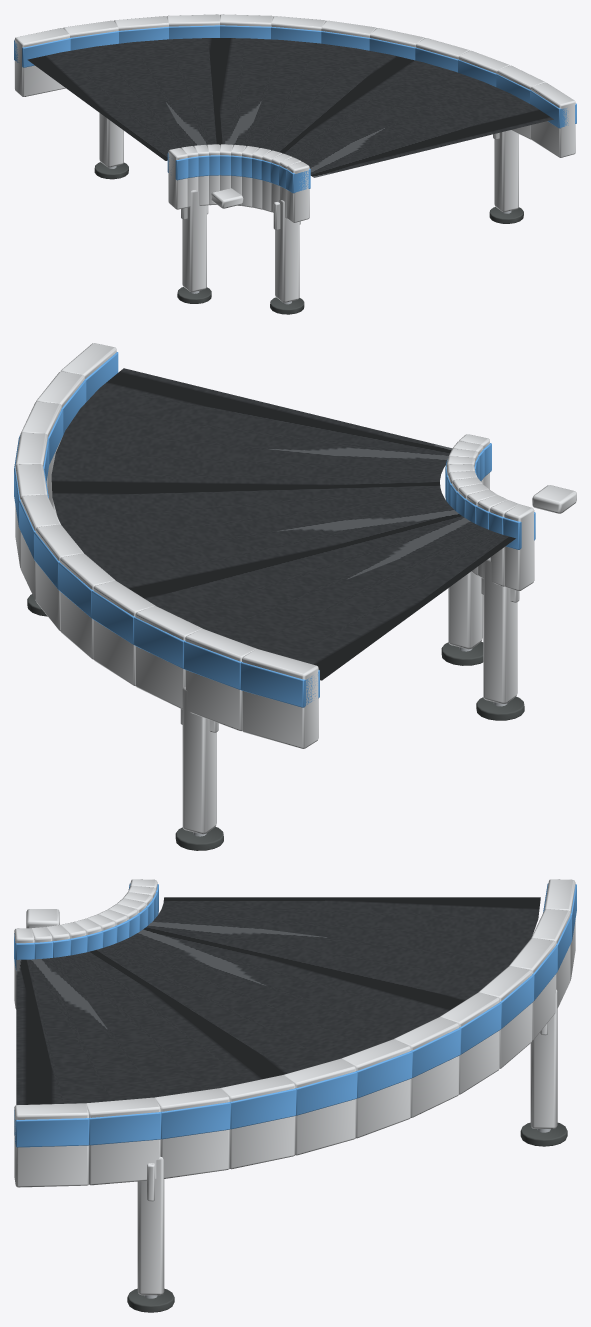
Rendered from cinta_curva_der_mk2.glb.
3 views of the same model, one above another, from view 1: azimuth 30°, elevation 25°; view 2: azimuth 150°, elevation 25°; view 3: azimuth 270°, elevation 25° (orthographic). The views are drawn at different scales.
Visible parts, largest first — view 1: banda, pata_int0, pata_int1, bastidor_ext11, pata_ext1, bastidor_ext0, pata_ext0, bastidor_int11, bastidor_int0, franja_ext0, bastidor_ext10, franja_ext11 (+29 smaller); view 2: banda, bastidor_ext0, pata_int0, pata_ext0, bastidor_ext1, bastidor_ext2, bastidor_ext3, bastidor_ext4, pata_int1, franja_ext0, bastidor_int0, bastidor_ext5 (+17 smaller); view 3: banda, bastidor_ext11, bastidor_ext9, bastidor_ext10, bastidor_ext8, bastidor_ext7, bastidor_ext6, pata_ext1, bastidor_ext5, pata_ext0, bastidor_ext4, bastidor_ext3 (+16 smaller).
Boxes of the visible parts, <box> form: banda: <box>27,38,553,177</box>; pata_int0: <box>182,190,206,292</box>; pata_int1: <box>275,200,299,302</box>; bastidor_ext11: <box>531,82,575,157</box>; pata_ext1: <box>494,130,518,211</box>; bastidor_ext0: <box>14,28,69,96</box>; pata_ext0: <box>99,113,123,167</box>; bastidor_int11: <box>287,161,309,222</box>; bastidor_int0: <box>168,148,187,209</box>; franja_ext0: <box>14,38,70,67</box>; bastidor_ext10: <box>497,65,545,139</box>; franja_ext11: <box>530,90,576,128</box>; banda: <box>51,368,515,680</box>; bastidor_ext0: <box>242,649,318,748</box>; pata_int0: <box>483,558,517,703</box>; pata_ext0: <box>182,687,216,834</box>; bastidor_ext1: <box>185,629,256,731</box>; bastidor_ext2: <box>135,606,202,709</box>; bastidor_ext3: <box>93,580,155,686</box>; bastidor_ext4: <box>60,553,115,659</box>; pata_int1: <box>448,572,482,649</box>; franja_ext0: <box>240,662,319,707</box>; bastidor_int0: <box>504,504,534,590</box>; bastidor_ext5: <box>35,524,83,630</box>; banda: <box>16,897,540,1104</box>; bastidor_ext11: <box>14,1103,88,1187</box>; bastidor_ext9: <box>154,1088,229,1178</box>; bastidor_ext10: <box>86,1097,160,1185</box>; bastidor_ext8: <box>221,1075,295,1169</box>; bastidor_ext7: <box>283,1058,355,1155</box>; bastidor_ext6: <box>341,1039,410,1138</box>; pata_ext1: <box>137,1157,164,1295</box>; bastidor_ext5: <box>394,1017,459,1117</box>; pata_ext0: <box>530,989,557,1128</box>; bastidor_ext4: <box>440,992,499,1094</box>; bastidor_ext3: <box>478,966,532,1068</box>.
Size of the model in its own units: 0.837 by 0.33 by 0.837.
5 materials, 1 textured.
